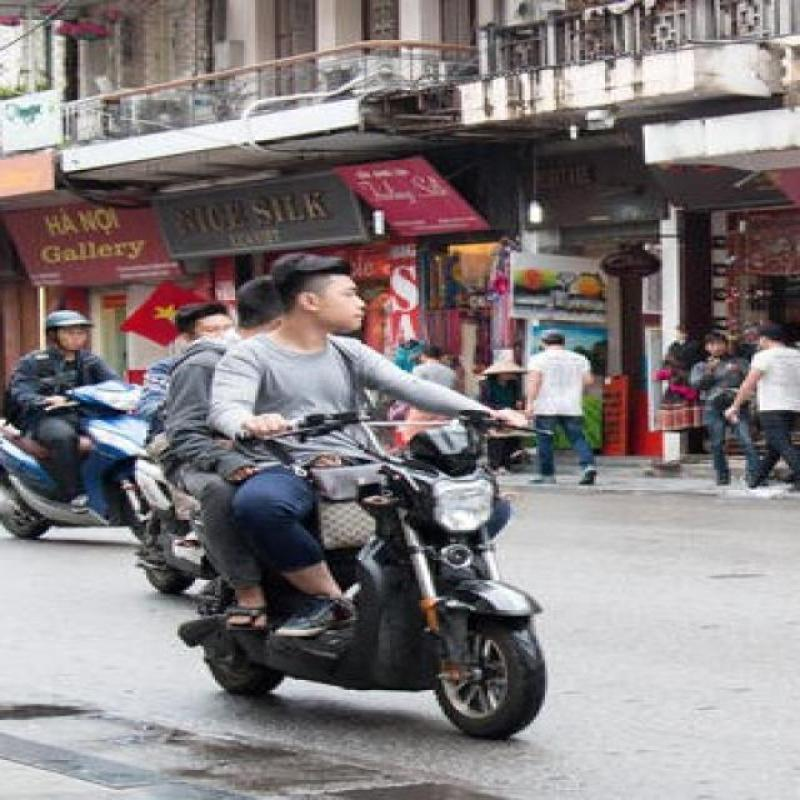nohelmet: (258, 246, 378, 340), (166, 300, 232, 344)
